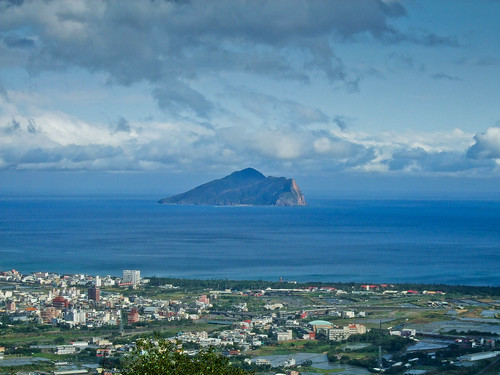turtleIsland: (156, 164, 308, 204)
